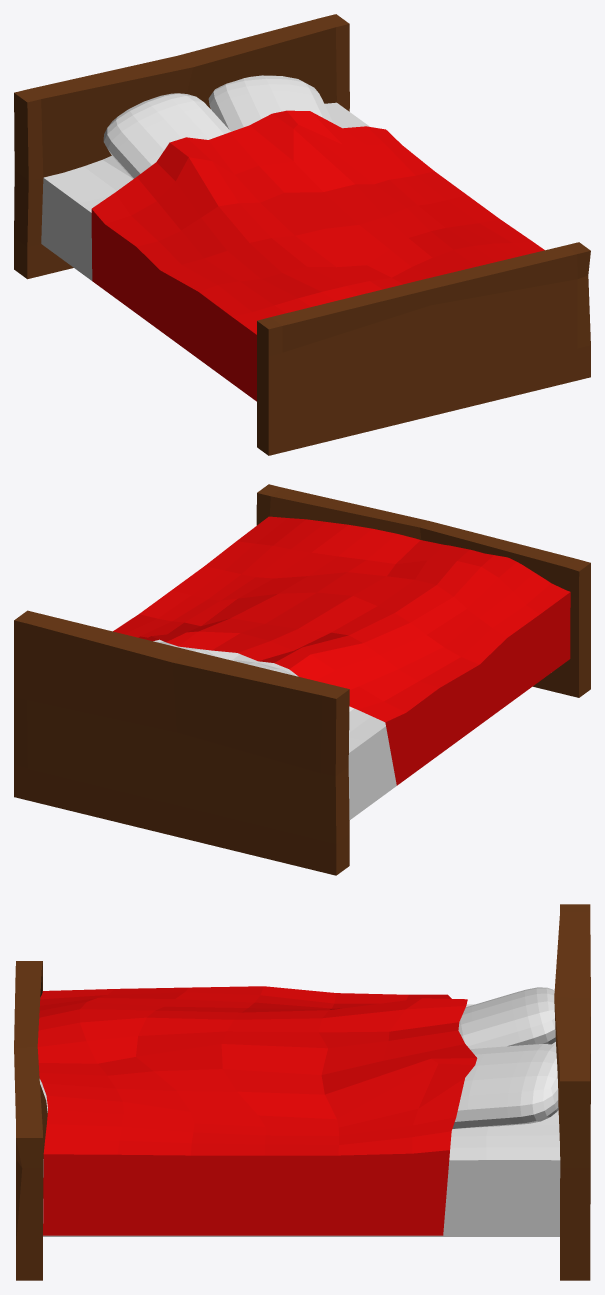
The model's file is bed.glb.
The picture shows the model from 3 angles, top to bottom: view 1: azimuth 30°, elevation 25°; view 2: azimuth 150°, elevation 25°; view 3: azimuth 270°, elevation 25°; orthographic projection. The views are drawn at different scales.
Visible parts, largest first — view 1: Cube.003, Cube.002, Cube.001; view 2: Cube.003, Cube.002, Cube.001; view 3: Cube.002, Cube.001, Cube.003.
Boxes of the visible parts, left/top/right/bottom form: Cube.003: left=14, top=14, right=590, bottom=455; Cube.002: left=91, top=110, right=544, bottom=401; Cube.001: left=41, top=75, right=369, bottom=280; Cube.003: left=14, top=484, right=590, bottom=875; Cube.002: left=113, top=516, right=570, bottom=785; Cube.001: left=153, top=639, right=396, bottom=819; Cube.002: left=37, top=986, right=477, bottom=1235; Cube.001: left=39, top=987, right=560, bottom=1236; Cube.003: left=14, top=904, right=590, bottom=1280.
Size of the model in its own units: 5.62 by 2.94 by 7.72.
